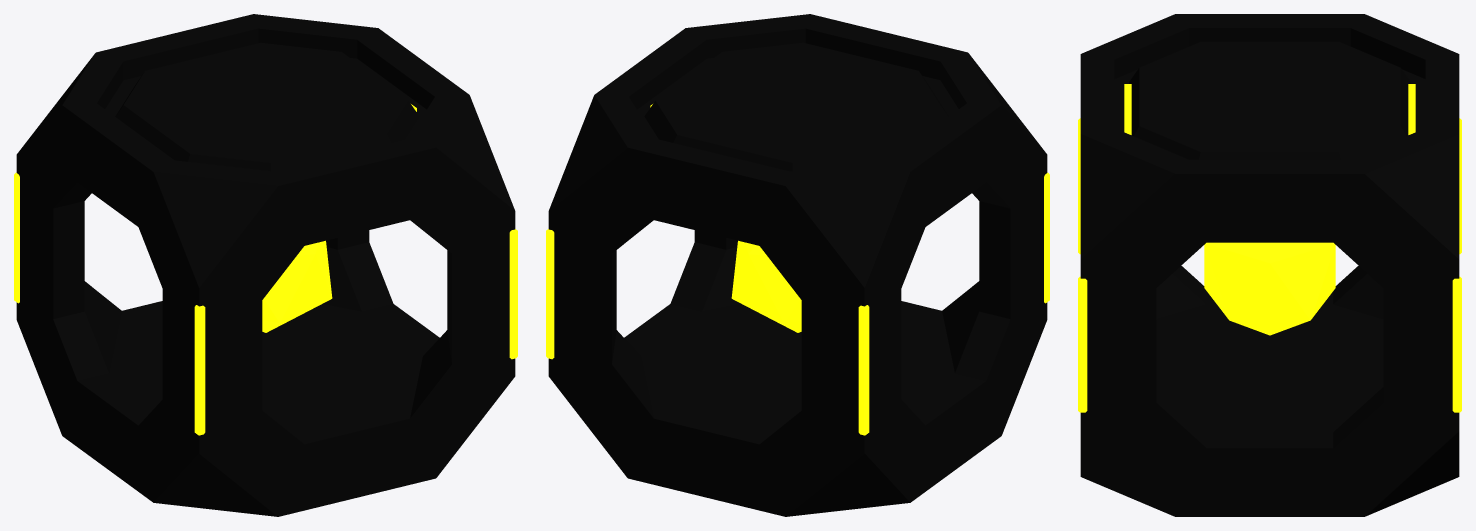
Rendered from 1130Anchor.fbx.
3 views of the same model, side by side, from view 1: azimuth 30°, elevation 25°; view 2: azimuth 150°, elevation 25°; view 3: azimuth 270°, elevation 25° (orthographic). The views are drawn at different scales.
Parts seen in each view (by area): view 1: Cube, Icosphere, Cube.001; view 2: Cube, Icosphere, Cube.001; view 3: Cube, Icosphere, Cube.001, Cube.002.
Boxes of the visible parts, left/top/right/bottom form: Cube: left=16, top=14, right=515, bottom=516; Icosphere: left=262, top=240, right=332, bottom=332; Cube.001: left=14, top=172, right=517, bottom=435; Cube: left=548, top=14, right=1047, bottom=516; Icosphere: left=731, top=240, right=801, bottom=332; Cube.001: left=546, top=172, right=1049, bottom=435; Cube: left=1080, top=14, right=1459, bottom=516; Icosphere: left=1204, top=242, right=1335, bottom=335; Cube.001: left=1078, top=118, right=1461, bottom=412; Cube.002: left=1124, top=84, right=1415, bottom=134.
Size of the model in its own units: 203 by 200 by 203.
